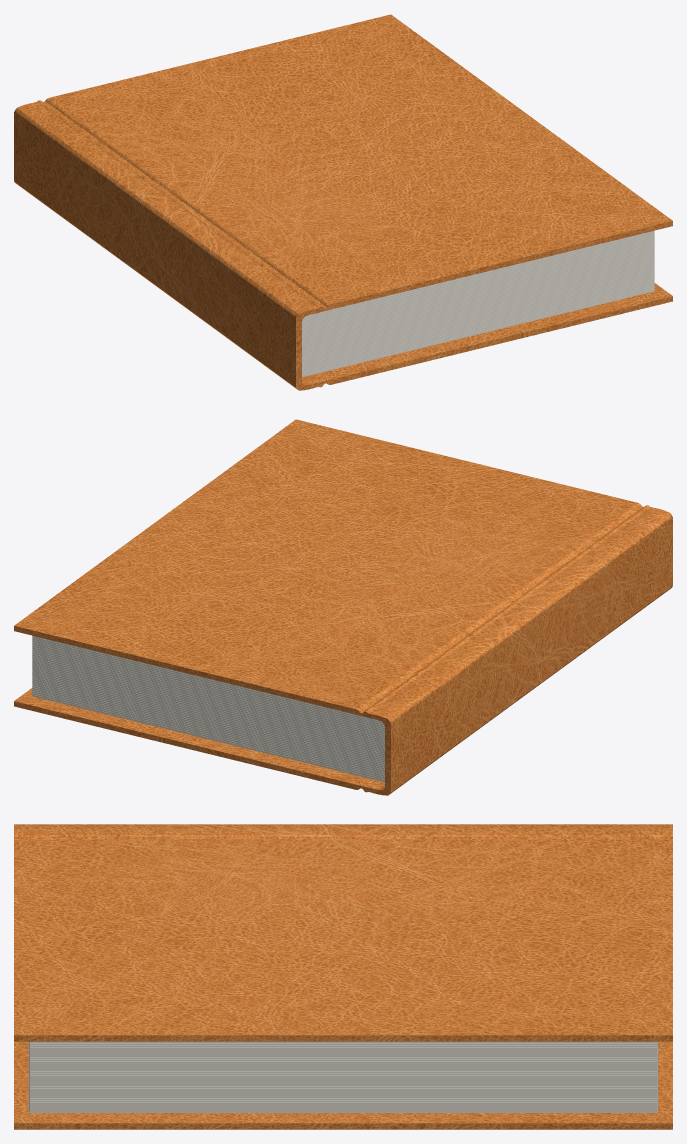
File: book.glb
The picture shows the model from 3 angles, top to bottom: view 1: azimuth 30°, elevation 25°; view 2: azimuth 150°, elevation 25°; view 3: azimuth 270°, elevation 25°; orthographic projection. The views are drawn at different scales.
Visible parts, largest first — view 1: OBJ_Front_Cover_Board, OBJ_Rounded_Spine, OBJ_Tail_Page_Layers, OBJ_Back_Cover_Board, OBJ_Tail_Edge; view 2: OBJ_Front_Cover_Board, OBJ_Rounded_Spine, OBJ_Head_Page_Layers, OBJ_Back_Cover_Board, OBJ_Head_Edge; view 3: OBJ_Front_Cover_Board, OBJ_Fore_Page_Layers, OBJ_Back_Cover_Board, OBJ_Fore_Edge, OBJ_Rounded_Spine.
Boxes of the visible parts, x1,y1,x2,y2 form: OBJ_Front_Cover_Board: [37, 14, 672, 312]; OBJ_Rounded_Spine: [14, 102, 319, 390]; OBJ_Tail_Page_Layers: [302, 231, 654, 376]; OBJ_Back_Cover_Board: [311, 283, 672, 387]; OBJ_Tail_Edge: [302, 232, 653, 377]; OBJ_Front_Cover_Board: [14, 419, 649, 717]; OBJ_Rounded_Spine: [367, 507, 672, 795]; OBJ_Head_Page_Layers: [32, 636, 384, 781]; OBJ_Back_Cover_Board: [14, 688, 375, 792]; OBJ_Head_Edge: [33, 637, 384, 782]; OBJ_Front_Cover_Board: [14, 834, 672, 1041]; OBJ_Fore_Page_Layers: [30, 1041, 656, 1112]; OBJ_Back_Cover_Board: [14, 1041, 672, 1129]; OBJ_Fore_Edge: [29, 1041, 657, 1112]; OBJ_Rounded_Spine: [14, 824, 672, 834].
Size of the model in its own units: 0.22 by 0.045 by 0.285.
4 materials, 1 textured.
